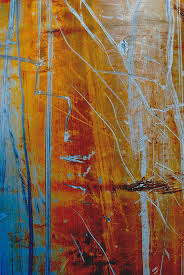rust: (57, 83, 108, 270), (89, 175, 183, 199), (68, 230, 117, 275), (40, 22, 88, 36)
